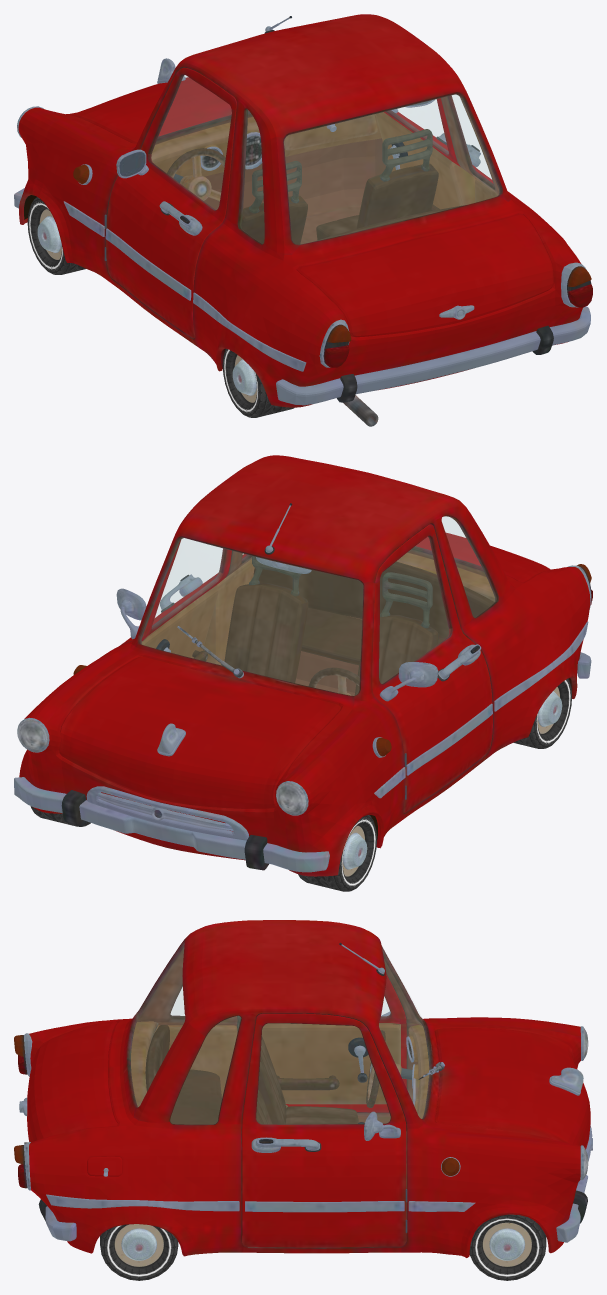
The model's file is car_carton_ar.glb.
The picture shows the model from 3 angles, top to bottom: view 1: azimuth 30°, elevation 25°; view 2: azimuth 150°, elevation 25°; view 3: azimuth 270°, elevation 25°; orthographic projection. The views are drawn at different scales.
Parts seen in each view (by area): view 1: Car_Cartoon6_00002_0, Door_Left_1, Glass_Left_2, Door_Right_3, wheel_rear_left_8, wheel_front_left_6, Rule_5; view 2: Car_Cartoon6_00002_0, Door_Left_1, Glass_Left_2, Door_Right_3, wheel_front_left_6, wheel_rear_left_8, Rule_5; view 3: Car_Cartoon6_00002_0, Door_Right_3, Glass_Right_4, Door_Left_1, wheel_front_right_7, wheel_rear_right_9, Rule_5.
Boxes of the visible parts, x1,y1,x2,y2 form: Car_Cartoon6_00002_0: (14,14,592,426); Door_Left_1: (104,67,236,338); Glass_Left_2: (151,75,231,209); Door_Right_3: (375,98,480,210); wheel_rear_left_8: (222,348,294,417); wheel_front_left_6: (27,197,85,274); Rule_5: (167,148,225,200); Car_Cartoon6_00002_0: (14,455,592,876); Door_Left_1: (372,524,492,812); Glass_Left_2: (379,537,448,683); Door_Right_3: (116,539,231,661); wheel_front_left_6: (298,815,376,891); wheel_rear_left_8: (513,678,571,748); Rule_5: (308,667,359,695); Car_Cartoon6_00002_0: (14,920,592,1257); Door_Right_3: (242,1013,407,1247); Glass_Right_4: (257,1024,389,1123); Door_Left_1: (262,974,406,1112); wheel_front_right_7: (469,1214,546,1280); wheel_rear_right_9: (100,1224,178,1280); Rule_5: (366,1030,412,1107).
Size of the model in its own units: 2.47 by 2.04 by 4.
Materials: 3 (3 with a texture image).
